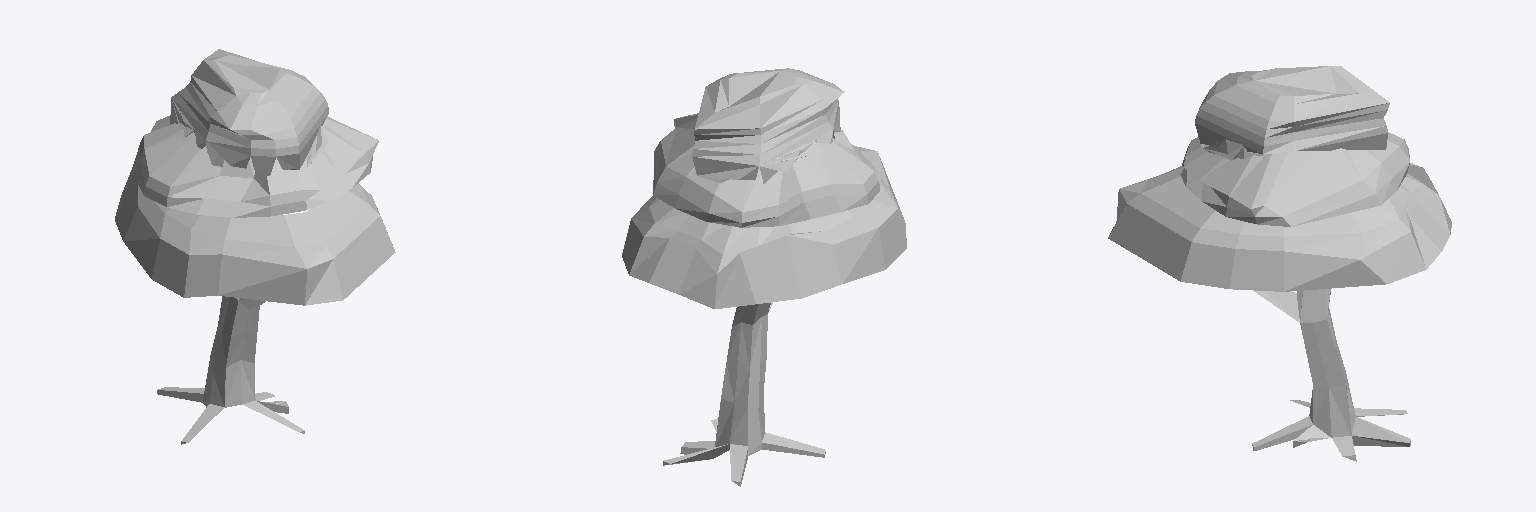
The model's file is treeReduced.obj.
3 views of the same model, side by side, from view 1: azimuth 30°, elevation 25°; view 2: azimuth 150°, elevation 25°; view 3: azimuth 270°, elevation 25° (orthographic).
Parts seen in each view (by area): view 1: pSphere2, pSphere1, pSphere3, pCube2; view 2: pSphere2, pSphere1, pSphere3, pCube2; view 3: pSphere2, pSphere3, pSphere1, pCube2.
Part boxes in pixels (x1,y1,x2,y2): pSphere2: (115, 164, 395, 305); pSphere1: (134, 116, 378, 217); pSphere3: (170, 49, 328, 175); pCube2: (157, 296, 304, 444); pSphere2: (622, 146, 906, 308); pSphere1: (653, 113, 880, 227); pSphere3: (692, 68, 844, 183); pCube2: (663, 302, 825, 486); pSphere2: (1108, 163, 1451, 291); pSphere3: (1195, 66, 1389, 160); pSphere1: (1180, 132, 1409, 226); pCube2: (1252, 289, 1410, 461).
Bounding box in the file's own units: 6.24 × 9.77 × 8.39.